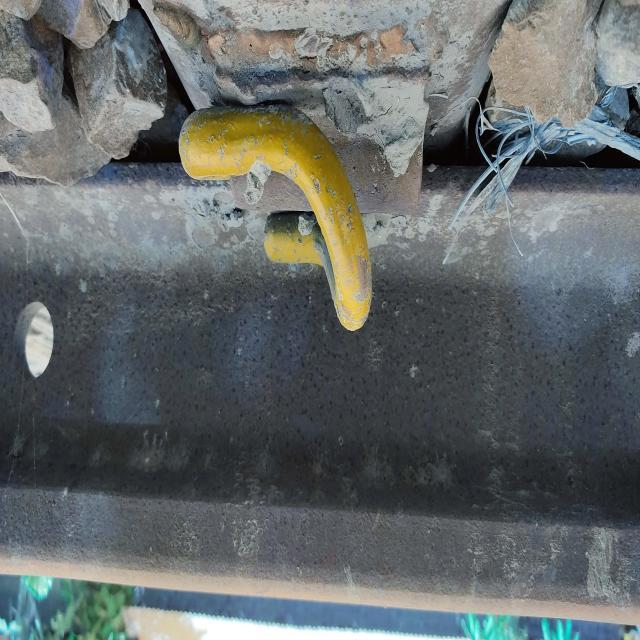Good Fasteners: (141, 0, 500, 331)
